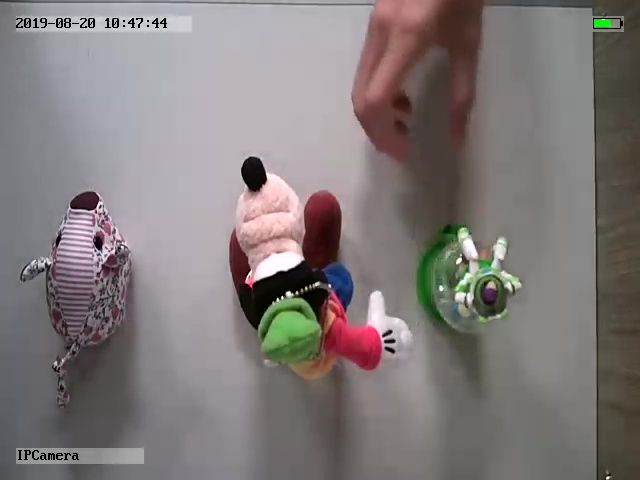buzz: (418, 221, 524, 341)
goofy: (224, 154, 417, 385)
pig: (20, 187, 136, 407)
